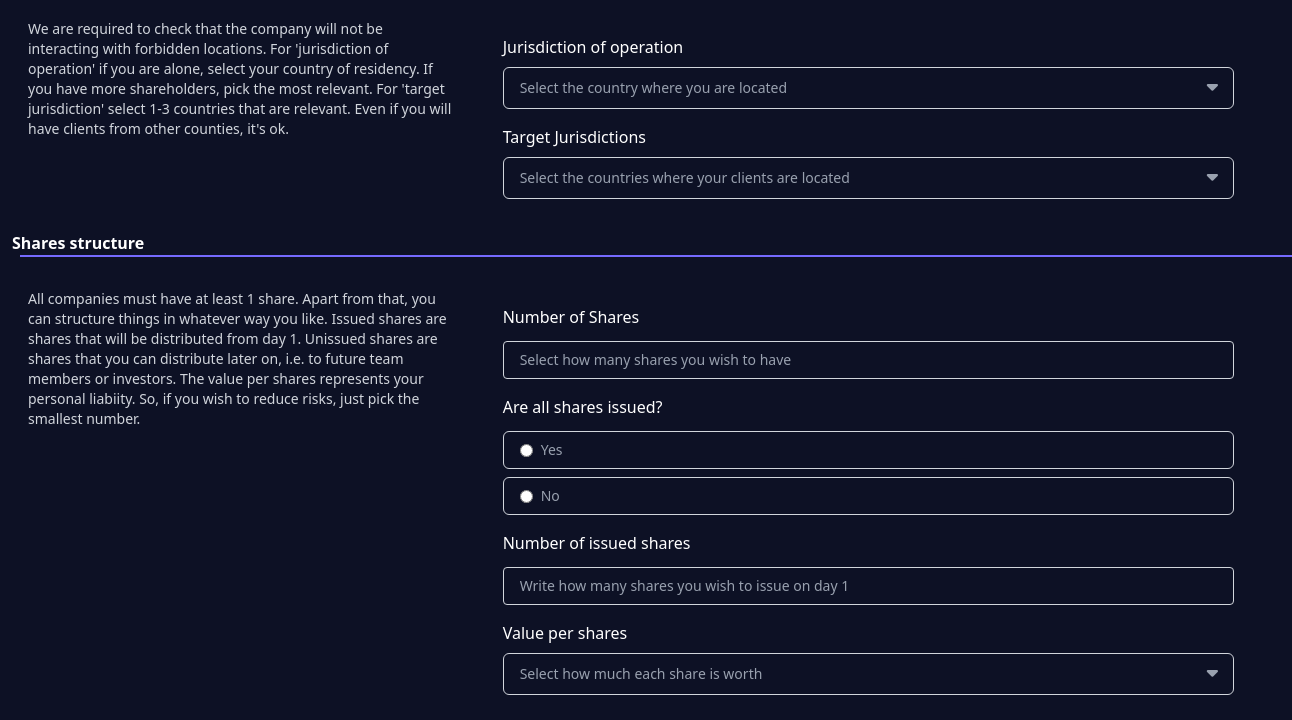
Test case: Testing Home View › testing issued shares that is larger than num of shares
(page scrolled)
Type "100" into the field with test id "num-of-shares" at (868, 360), box top-left (503, 341), bottom-right (1234, 379)
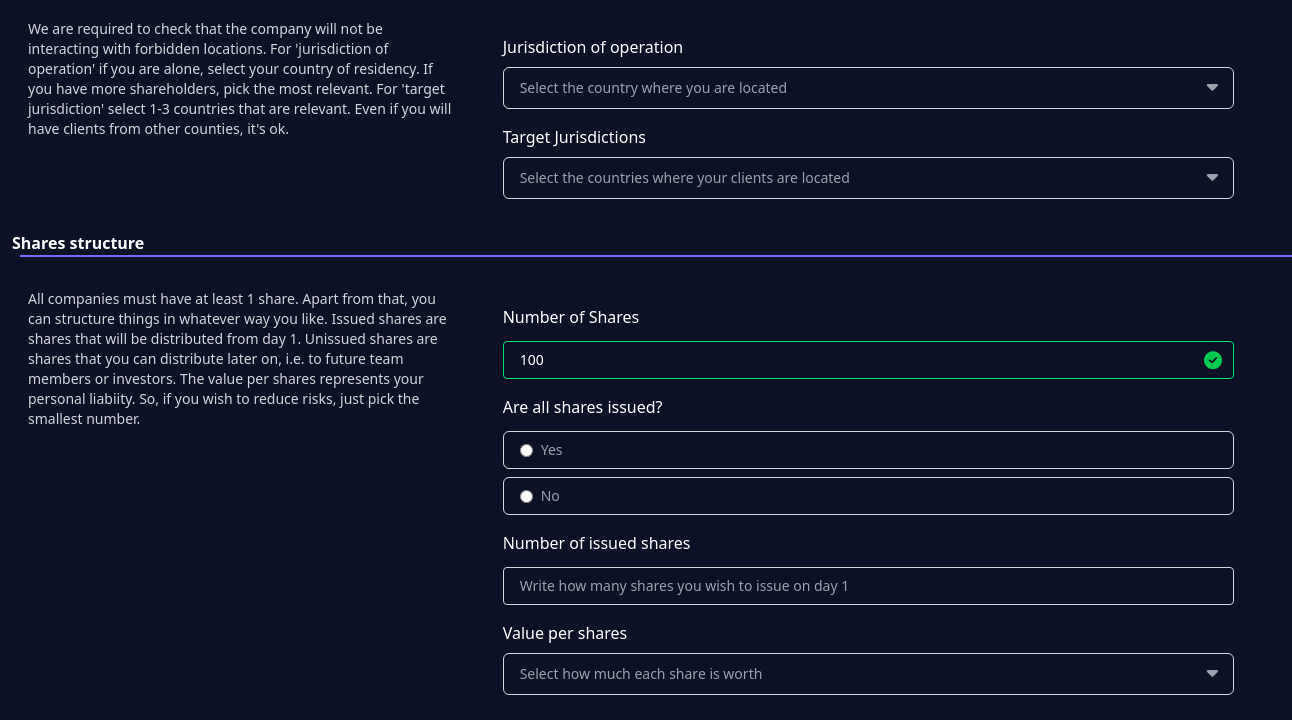
Type "150" into the field with test id "issued-shares" at (868, 586), box top-left (503, 567), bottom-right (1234, 605)
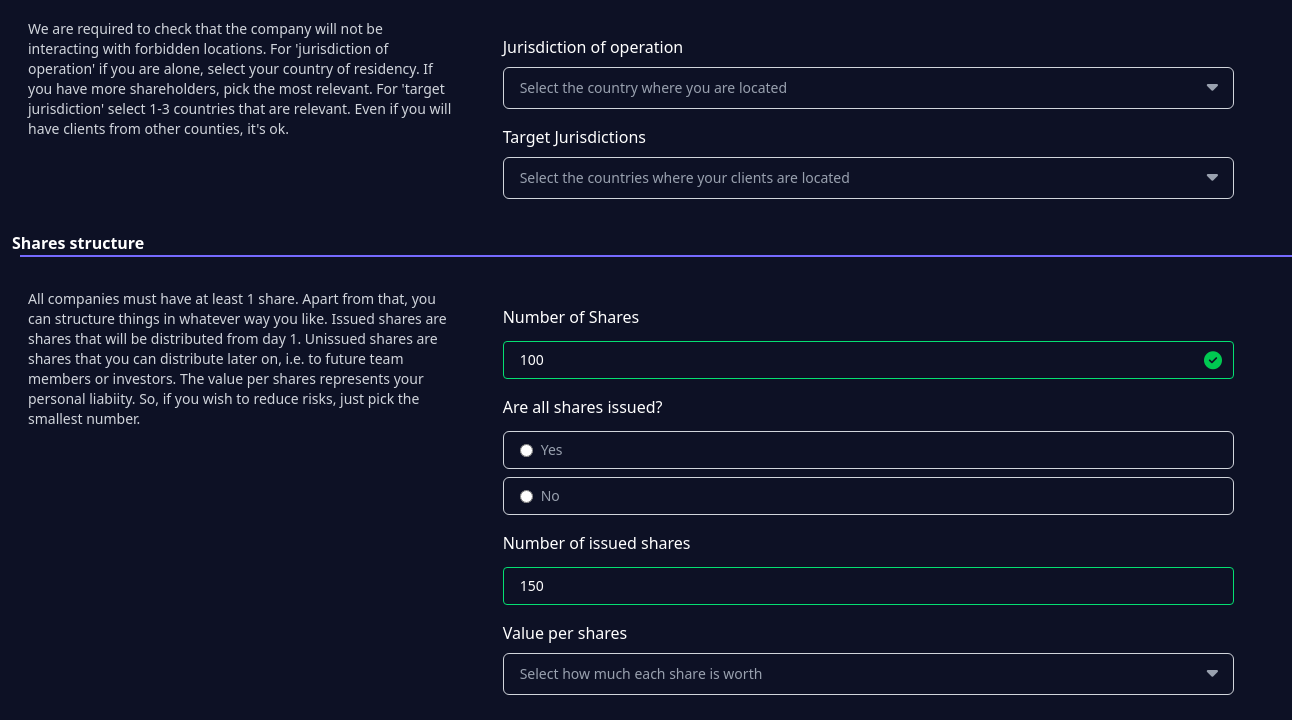
Leave the field with test id "issued-shares", box top-left (503, 567), bottom-right (1234, 605)
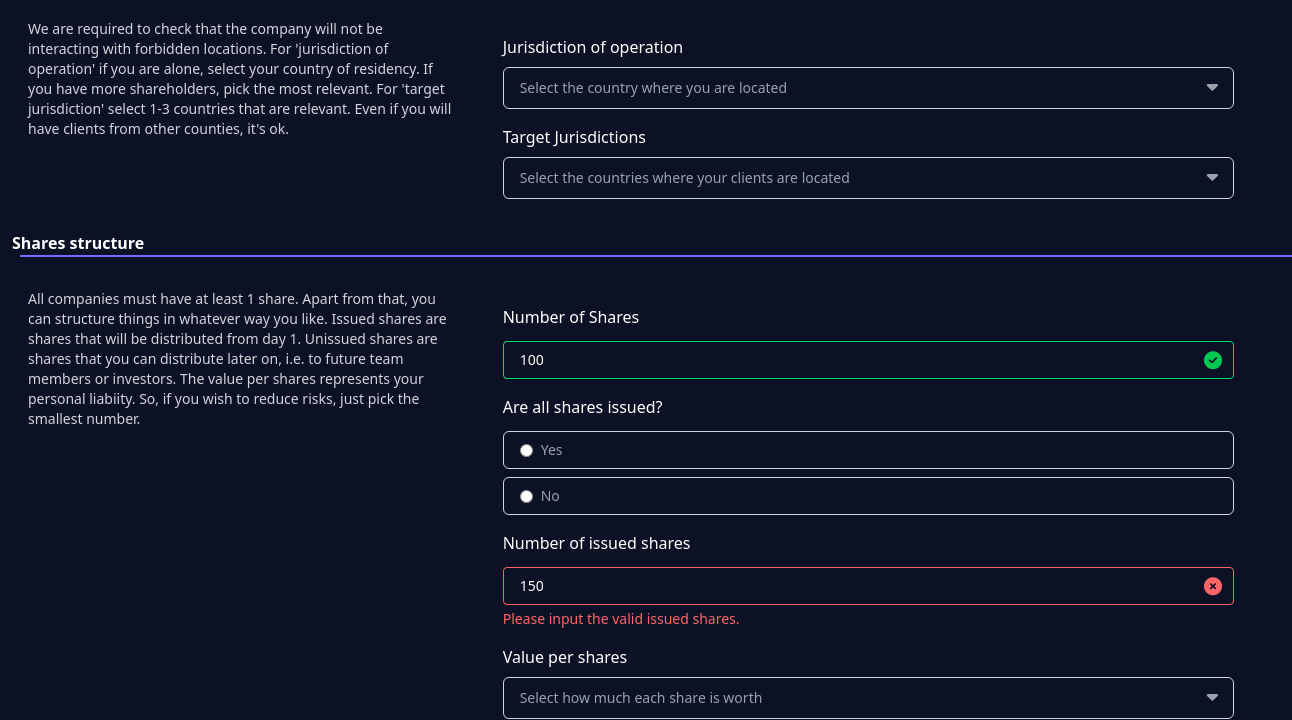
Now the text "Please input the valid issued shares." is shown, box top-left (503, 609), bottom-right (740, 628)
